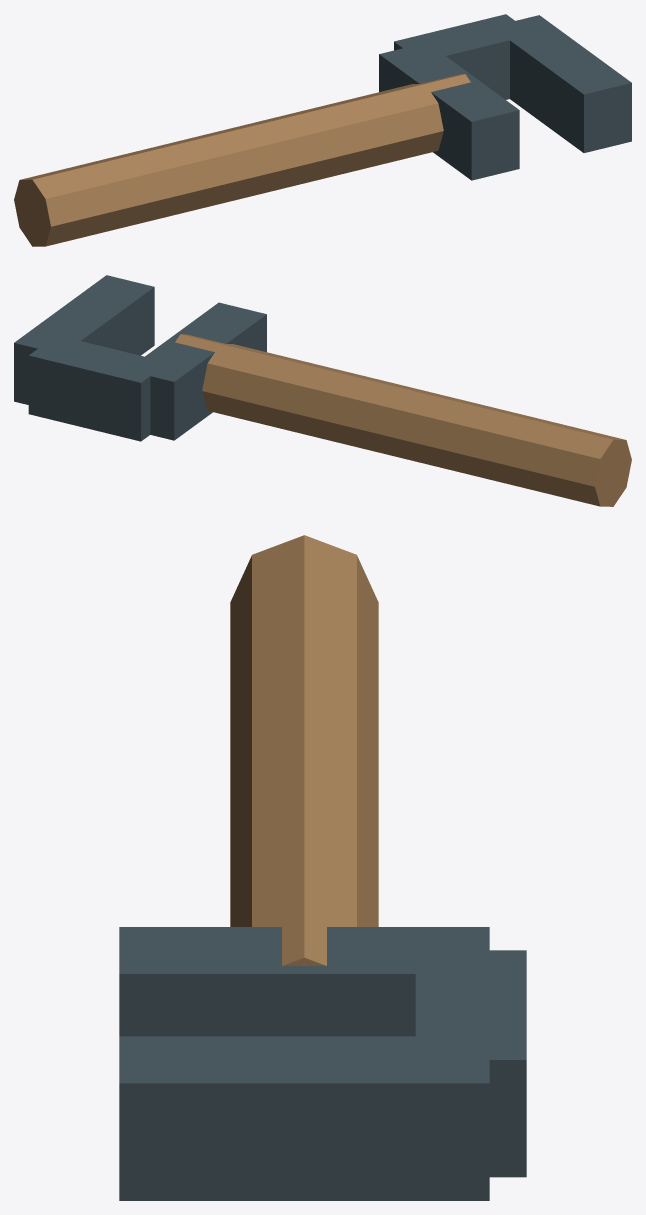
File: set_spanner_set.glb
3 views of the same model, one above another, from view 1: azimuth 30°, elevation 25°; view 2: azimuth 150°, elevation 25°; view 3: azimuth 270°, elevation 25° (orthographic). The views are drawn at different scales.
Visible parts, largest first — view 1: set_spanner_set; view 2: set_spanner_set; view 3: set_spanner_set.
Boxes of the visible parts, <box> form: set_spanner_set: <box>14,14,631,246</box>; set_spanner_set: <box>14,275,631,506</box>; set_spanner_set: <box>119,535,526,1200</box>.
Size of the model in its own units: 0.345 by 0.04 by 0.11.
